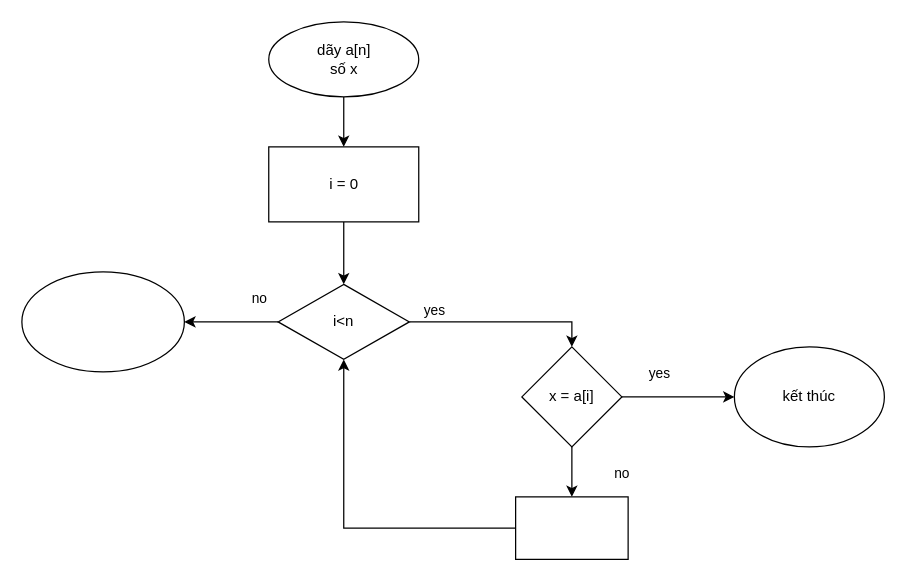
Some shapes in this 906 by 581 pixel diagram are drawn without their labels. Each missing label, with the centre of its shape:
i++: the point at 571,527
kết thúc không có giá trị nào: the point at 102,321
